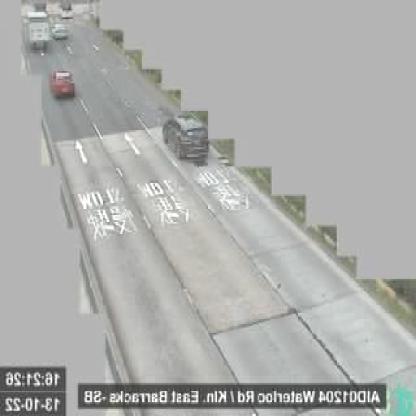Car: (160, 114, 209, 161), (50, 67, 75, 98), (49, 21, 68, 40)
Truck: (22, 9, 50, 53)
